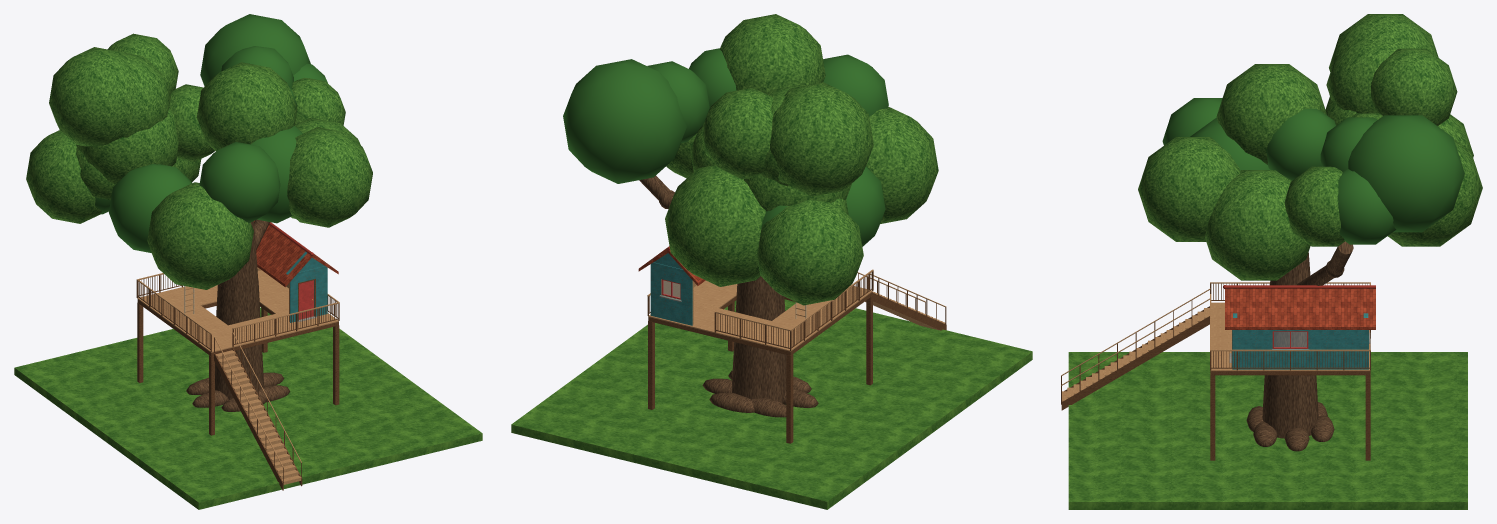
Rendered from b_treehouse_oak.gltf.
The picture shows the model from 3 angles, left to right: view 1: azimuth 30°, elevation 25°; view 2: azimuth 150°, elevation 25°; view 3: azimuth 270°, elevation 25°; orthographic projection. The views are drawn at different scales.
Visible parts, largest first — view 1: S_treehouse_oak, D_treehouse_oak_Cabin_S0_Door0; view 2: S_treehouse_oak; view 3: S_treehouse_oak.
Boxes of the visible parts, x1=… form: S_treehouse_oak: x1=14, y1=14, x2=482, y2=509; D_treehouse_oak_Cabin_S0_Door0: x1=299, y1=280, x2=313, y2=319; S_treehouse_oak: x1=511, y1=14, x2=1032, y2=509; S_treehouse_oak: x1=1061, y1=14, x2=1482, y2=509.
Size of the model in its own units: 16.16 by 18.32 by 19.01.
Materials: 16 (10 with a texture image).
